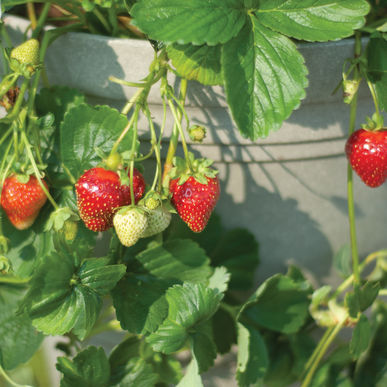ripe_strawberry: (168, 163, 223, 234), (75, 165, 126, 234), (1, 171, 52, 232), (344, 124, 387, 189), (122, 166, 147, 207)
unripe_strawberry: (114, 205, 150, 249), (140, 199, 173, 239), (8, 38, 42, 76)
